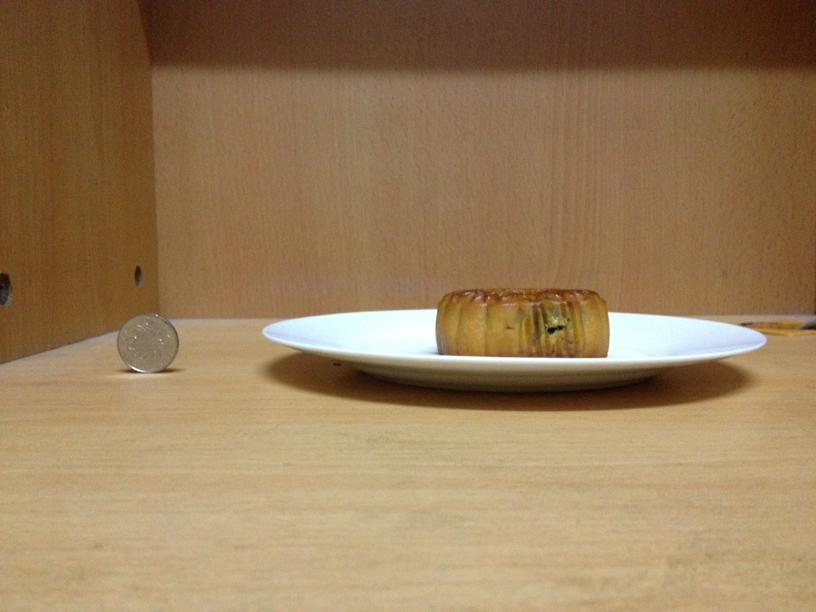coin: (116, 313, 179, 373)
mooncake: (434, 286, 608, 357)
